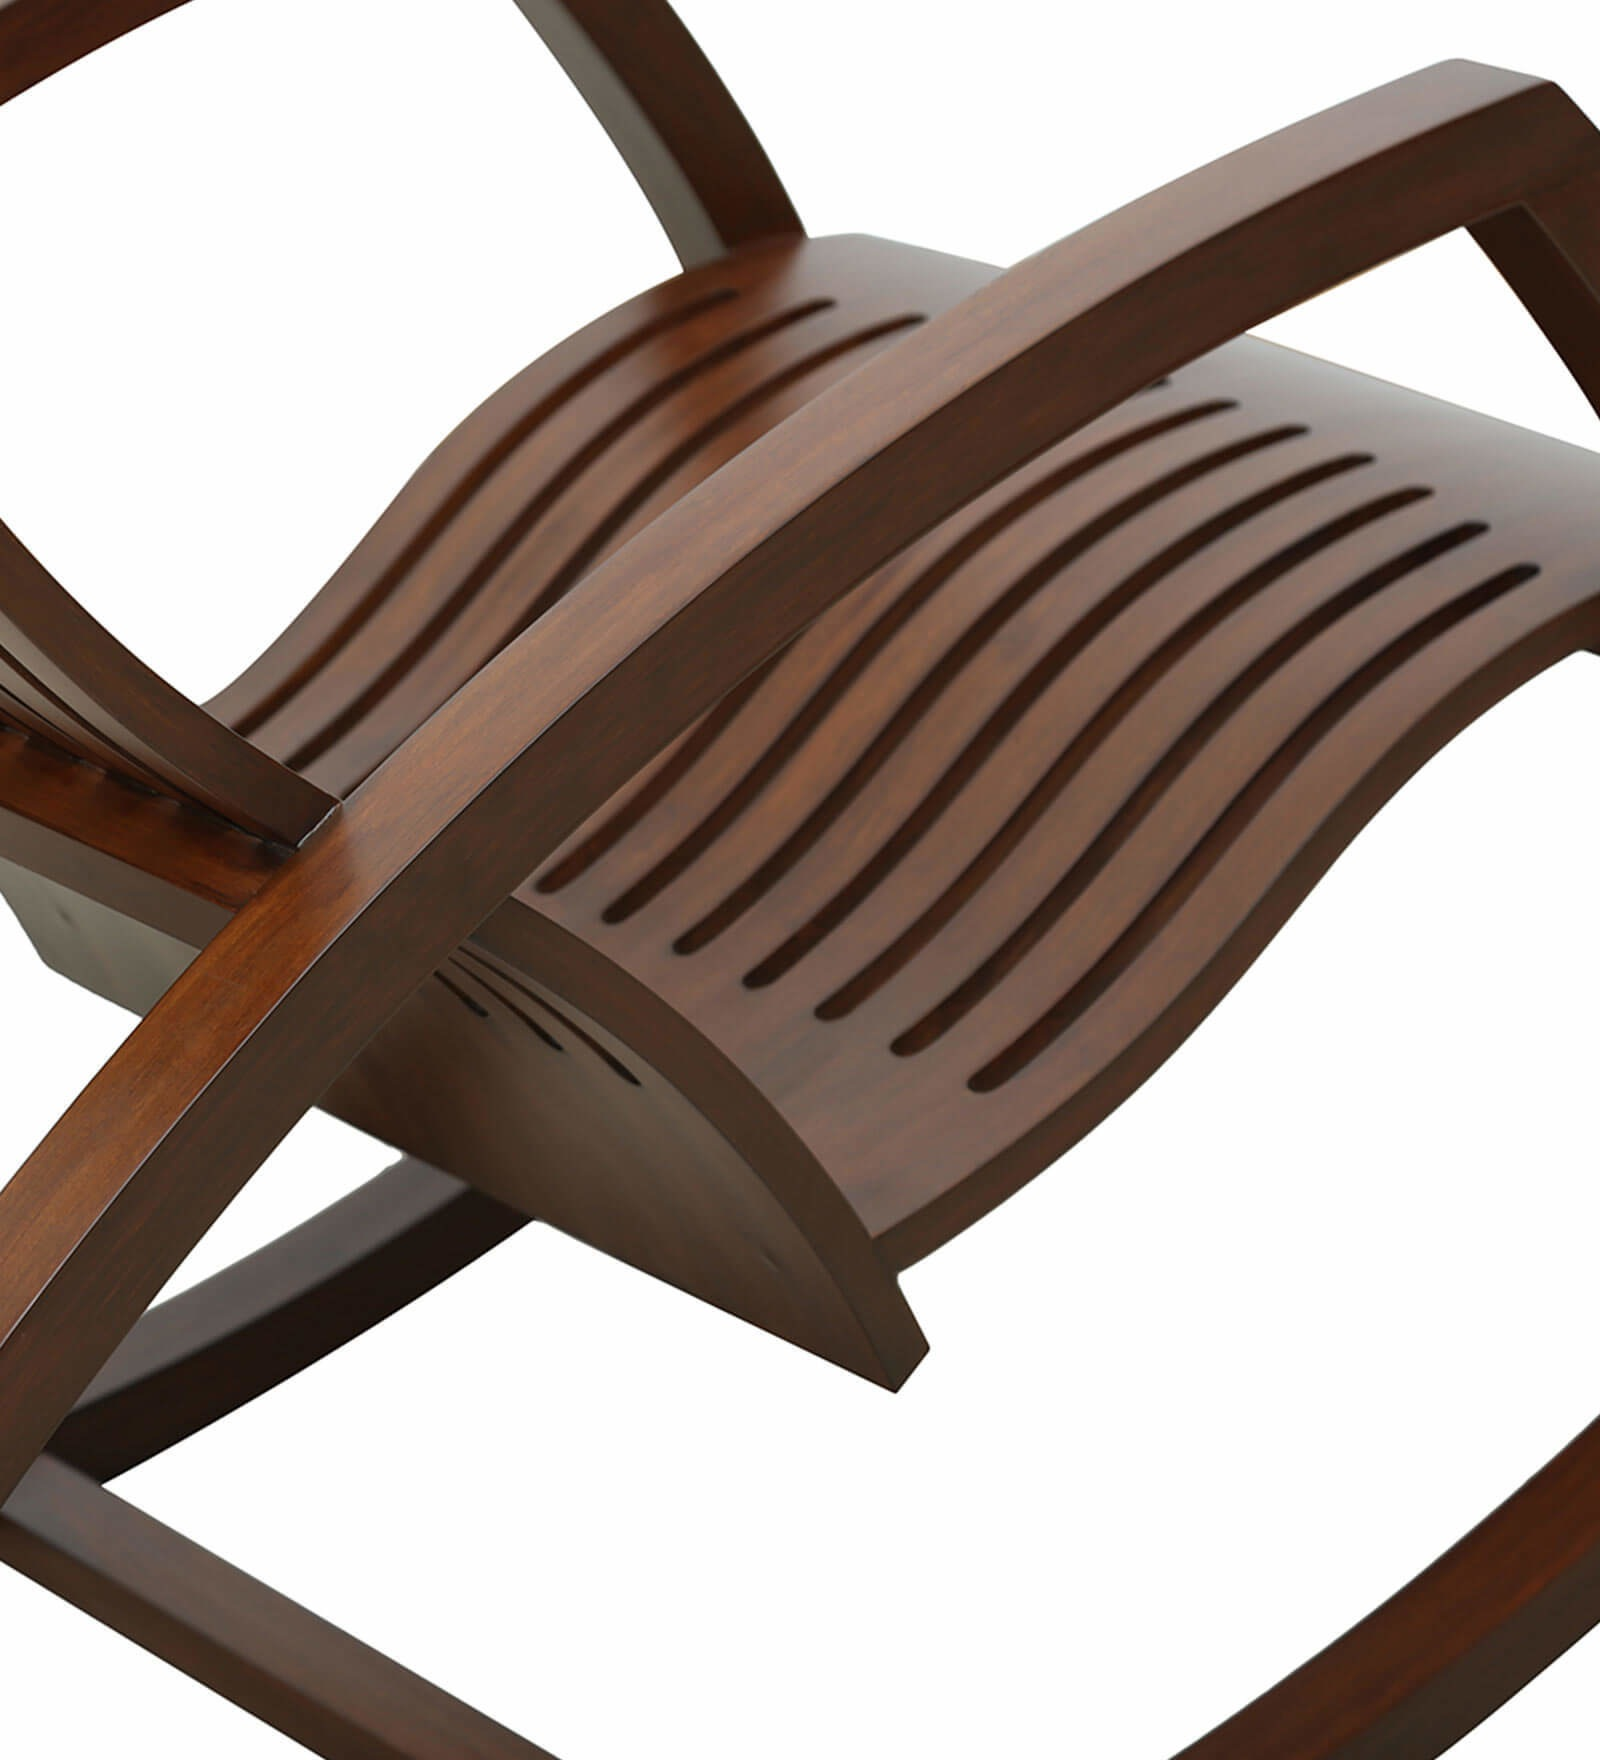Gaivota Rocking Chair in Semi-Gloss Walnut Finish by INDOORS: (9, 5, 1600, 1760)
